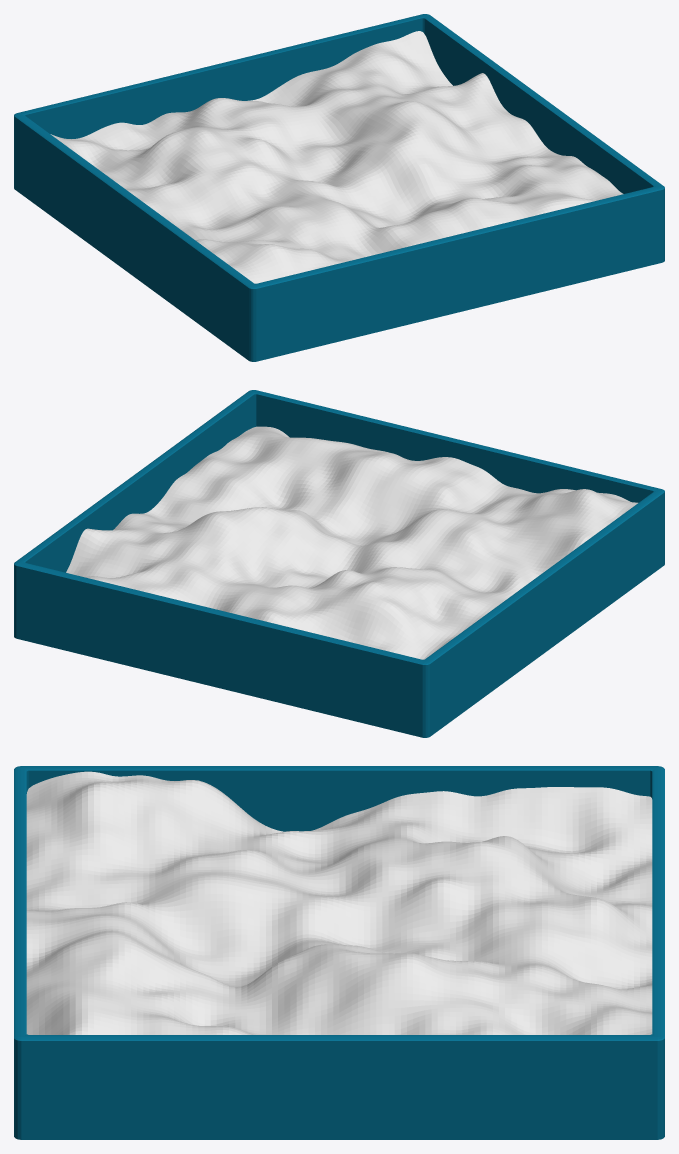
File: pesok.fbx
The picture shows the model from 3 angles, top to bottom: view 1: azimuth 30°, elevation 25°; view 2: azimuth 150°, elevation 25°; view 3: azimuth 270°, elevation 25°; orthographic projection. The views are drawn at different scales.
Visible parts, largest first — view 1: Cube, Cube.001; view 2: Cube.001, Cube; view 3: Cube.001, Cube.
Boxes of the visible parts, x1,y1,x2,y2 form: Cube: [14, 14, 664, 361]; Cube.001: [50, 31, 623, 283]; Cube.001: [66, 426, 637, 659]; Cube: [14, 390, 664, 737]; Cube.001: [26, 771, 652, 1034]; Cube: [14, 766, 664, 1139].
Size of the model in its own units: 1167 by 223 by 1167.
